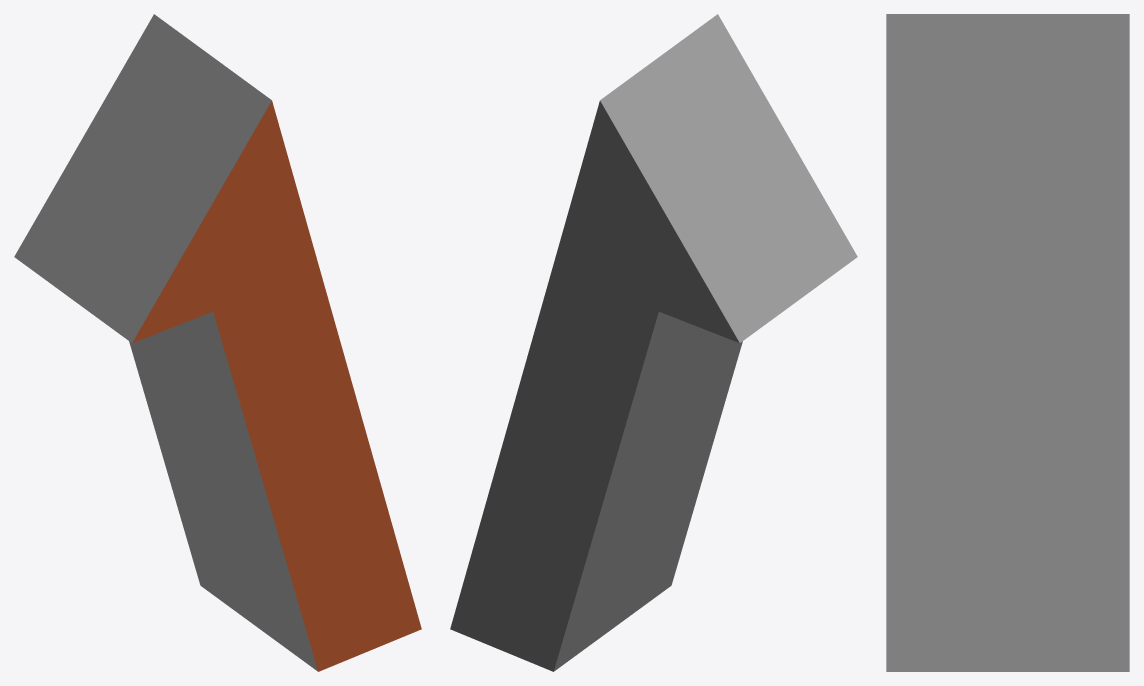
Rendered from construction_6239_assumed_A_Casa_h6m.obj.
The picture shows the model from 3 angles, left to right: view 1: azimuth 30°, elevation 25°; view 2: azimuth 150°, elevation 25°; view 3: azimuth 270°, elevation 25°; orthographic projection. The views are drawn at different scales.
Parts seen in each view (by area): view 1: construction_6239_assumed_A_Casa; view 2: construction_6239_assumed_A_Casa; view 3: construction_6239_assumed_A_Casa.
Part boxes in pixels (left/top/right/bottom): construction_6239_assumed_A_Casa: left=14, top=14, right=421, bottom=671; construction_6239_assumed_A_Casa: left=450, top=14, right=857, bottom=671; construction_6239_assumed_A_Casa: left=886, top=14, right=1129, bottom=671.
Bounding box in the file's own units: 8.51 × 16.36 × 6.
